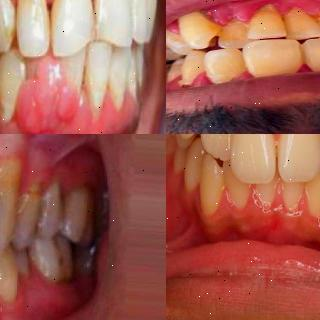Gum Swelling: (17, 56, 78, 132), (74, 88, 135, 134)
calculus: (186, 9, 217, 39), (279, 6, 311, 34), (252, 2, 278, 36), (219, 17, 249, 45)
cavities: (0, 182, 16, 234)
maligned: (198, 154, 226, 222), (207, 49, 244, 87), (0, 236, 21, 302), (284, 8, 320, 44), (214, 20, 256, 49), (179, 12, 215, 44), (307, 156, 320, 213)
stains: (0, 93, 20, 124), (166, 36, 174, 58)
